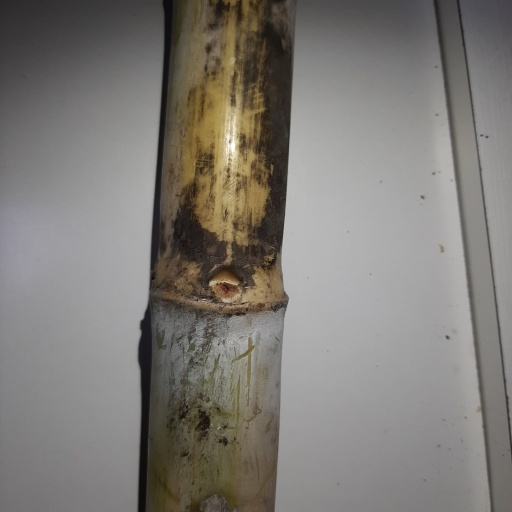Damage_Bud: (206, 270, 246, 304)
